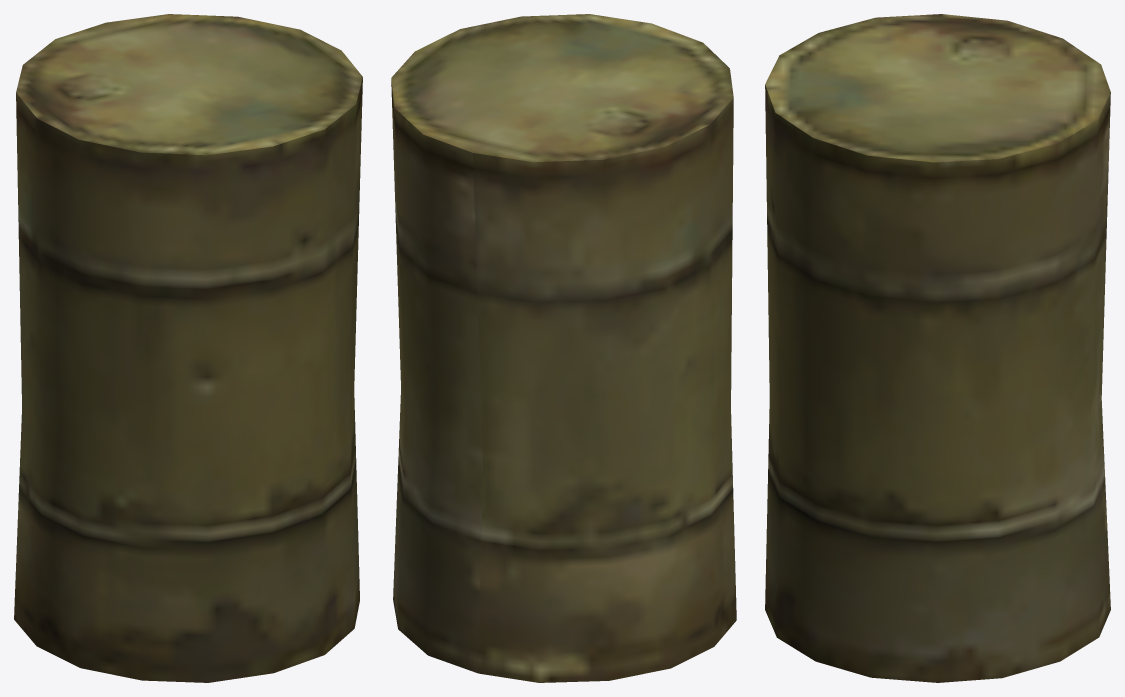
The model's file is steelbarrel_01.fbx.
3 renders of one model, left to right at view 1: azimuth 30°, elevation 25°; view 2: azimuth 150°, elevation 25°; view 3: azimuth 270°, elevation 25°, orthographic.
Parts seen in each view (by area): view 1: GEOM0_LOD0; view 2: GEOM0_LOD0; view 3: GEOM0_LOD0.
Part boxes in pixels (x1,y1,x2,y2): GEOM0_LOD0: (14,14,362,682); GEOM0_LOD0: (391,14,736,682); GEOM0_LOD0: (765,14,1110,682).
Size of what is drawn, in the model's own units: 66.26 by 110 by 65.73.
